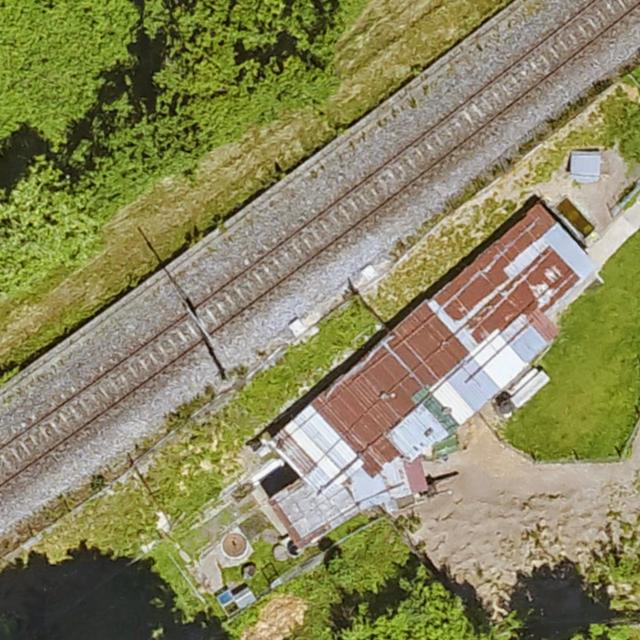tree: (335, 575, 468, 640), (568, 614, 640, 640)
